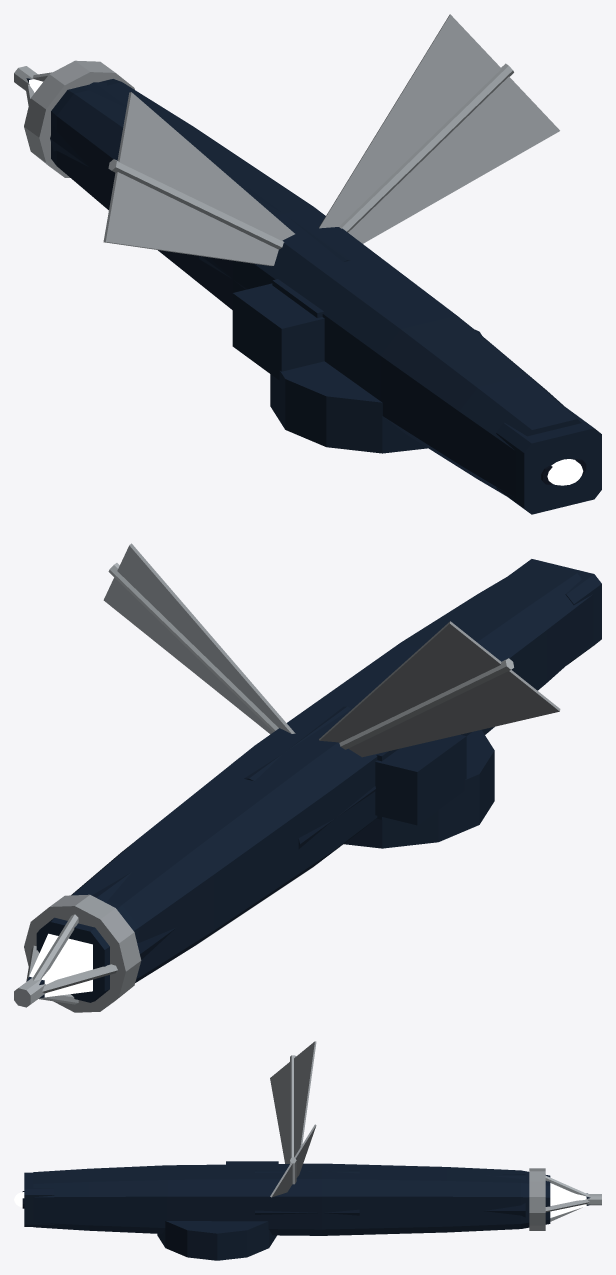
3 renders of one model, top to bottom at view 1: azimuth 30°, elevation 25°; view 2: azimuth 150°, elevation 25°; view 3: azimuth 270°, elevation 25°, orthographic. The views are drawn at different scales.
Parts seen in each view (by area): view 1: RIMWARD_HULL, RIMWARD_ENGINE_GLOW; view 2: RIMWARD_HULL, RIMWARD_EMISSIVE; view 3: RIMWARD_HULL, RIMWARD_EMISSIVE.
Part boxes in pixels (x1=…): RIMWARD_HULL: x1=14, y1=14, x2=601, y2=514; RIMWARD_ENGINE_GLOW: x1=547, y1=459, x2=583, y2=485; RIMWARD_HULL: x1=14, y1=543, x2=601, y2=1012; RIMWARD_EMISSIVE: x1=29, y1=933, x2=92, y2=997; RIMWARD_HULL: x1=22, y1=1041, x2=601, y2=1260; RIMWARD_EMISSIVE: x1=550, y1=1183, x2=586, y2=1217.
Bounding box in the file's own units: 3.76 × 2.25 × 7.85.
